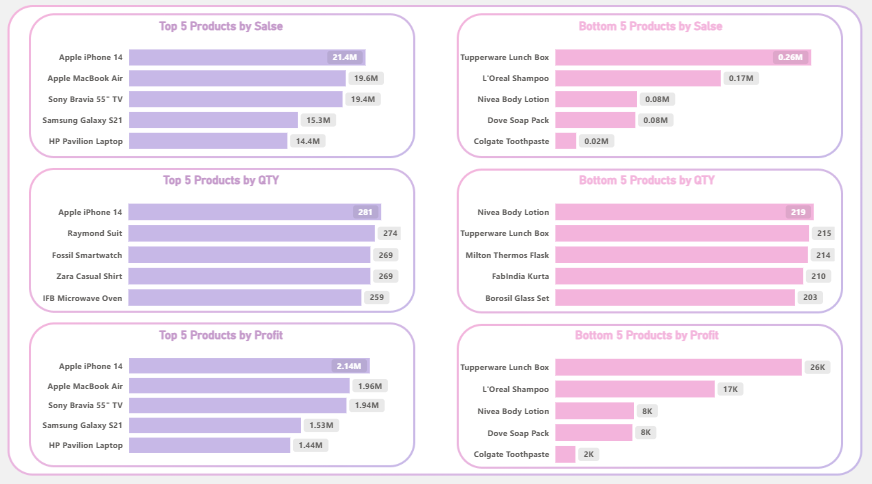

Layout of this report page (visuals, bound fields, positions):
{"tool":"powerbi","page":{"name":"Top/Bottom Products","canvas":[1280,720],"ordinal":3},"visuals":[{"type":"barChart","title":"Top 5 Products by Salse","fields":{"Category":["Dim Product.Product Name"],"Y":["Sum(Fact Table.Net Salse)"]},"box":[63.1,35.4,530.8,206.2],"z":0},{"type":"barChart","title":"Bottom 5 Products by Salse","fields":{"Category":["Dim Product.Product Name"],"Y":["Sum(Fact Table.Net Salse)"]},"box":[669.2,35.4,564.6,206.2],"z":1000},{"type":"barChart","title":"Top 5 Products by QTY","fields":{"Category":["Dim Product.Product Name"],"Y":["Sum(Fact Table.Units Sold)"]},"box":[63.1,258.5,530.8,210.8],"z":2000},{"type":"barChart","title":"Bottom 5 Products by QTY","fields":{"Category":["Dim Product.Product Name"],"Y":["Sum(Fact Table.Units Sold)"]},"box":[669.2,258.5,553.8,210.8],"z":3000},{"type":"barChart","title":"Top 5 Products by Profit","fields":{"Category":["Dim Product.Product Name"],"Y":["Sum(Fact Table.Profit )"]},"box":[63.1,483.1,530.8,198.5],"z":4000},{"type":"barChart","title":"Bottom 5 Products by Profit","fields":{"Category":["Dim Product.Product Name"],"Y":["Sum(Fact Table.Profit )"]},"box":[669.2,483.1,553.8,213.8],"z":5000}]}

Visuals, with their boxes in screenshot pixels (x1, y1, x2, y2), scaled from the page's 1280x720 canvas onto the 872x484 screenshot:
"Top 5 Products by Salse" barChart: Rect(43, 24, 405, 162)
"Bottom 5 Products by Salse" barChart: Rect(456, 24, 841, 162)
"Top 5 Products by QTY" barChart: Rect(43, 174, 405, 315)
"Bottom 5 Products by QTY" barChart: Rect(456, 174, 833, 315)
"Top 5 Products by Profit" barChart: Rect(43, 325, 405, 458)
"Bottom 5 Products by Profit" barChart: Rect(456, 325, 833, 468)
